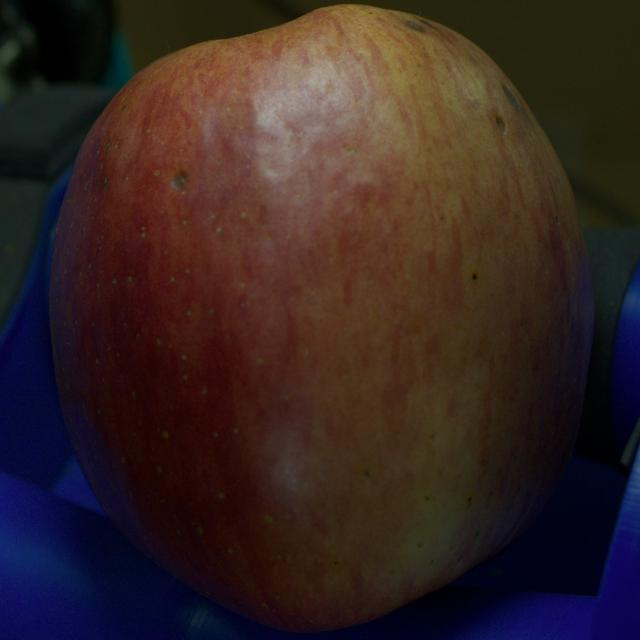apple: (50, 6, 594, 631)
pest: (502, 84, 521, 110), (402, 19, 426, 32), (172, 172, 187, 189), (496, 116, 506, 132), (419, 18, 435, 28)
